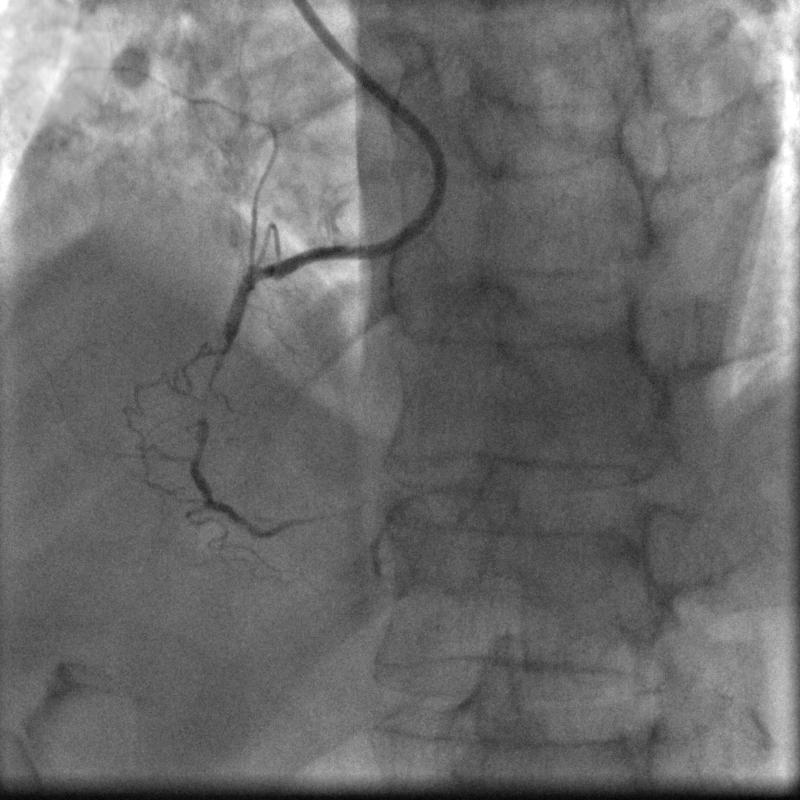Stenosis: (193, 341, 231, 425)
